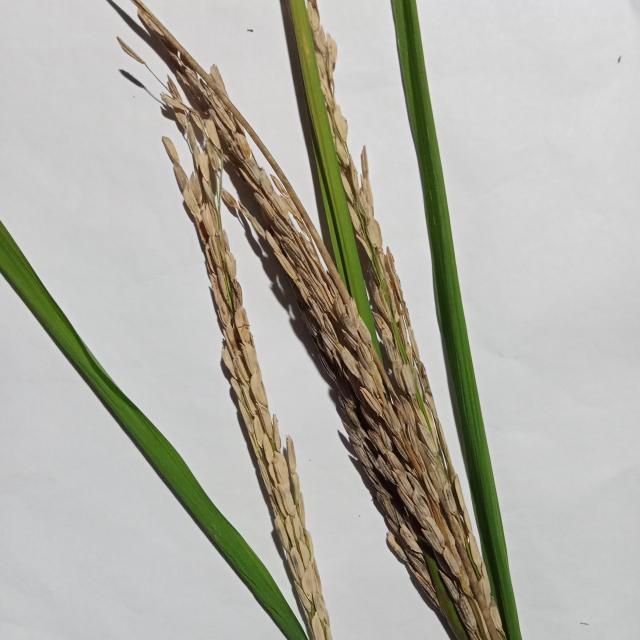Neck_Blast: (111, 0, 521, 640), (180, 138, 332, 640)
